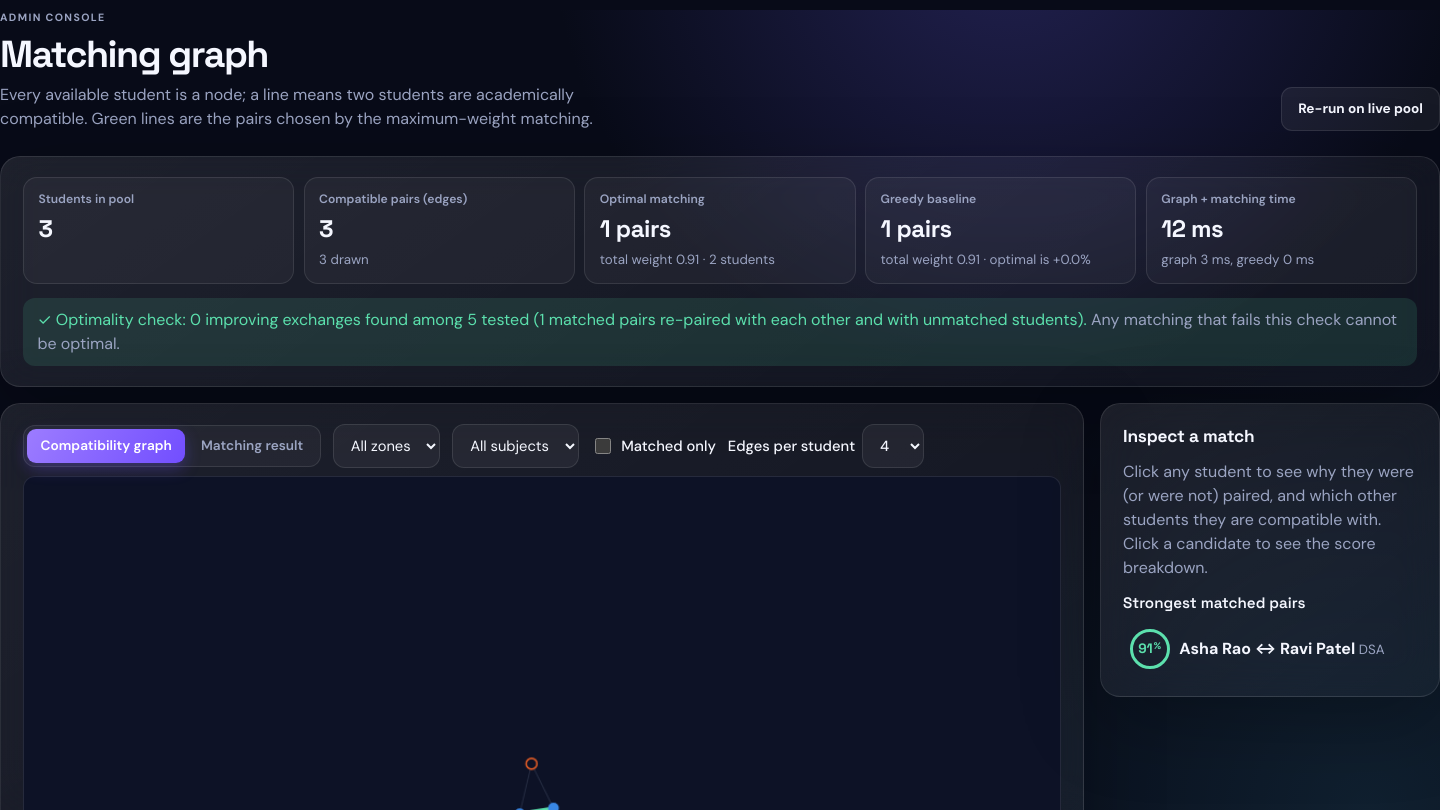
MatchGraphPage › lets the admin open a matched pair and see its score breakdown
Click the button "91 % Asha Rao ↔ Ravi Patel DSA" at (1270, 649), box [1123,623,1417,676]
(page scrolled)
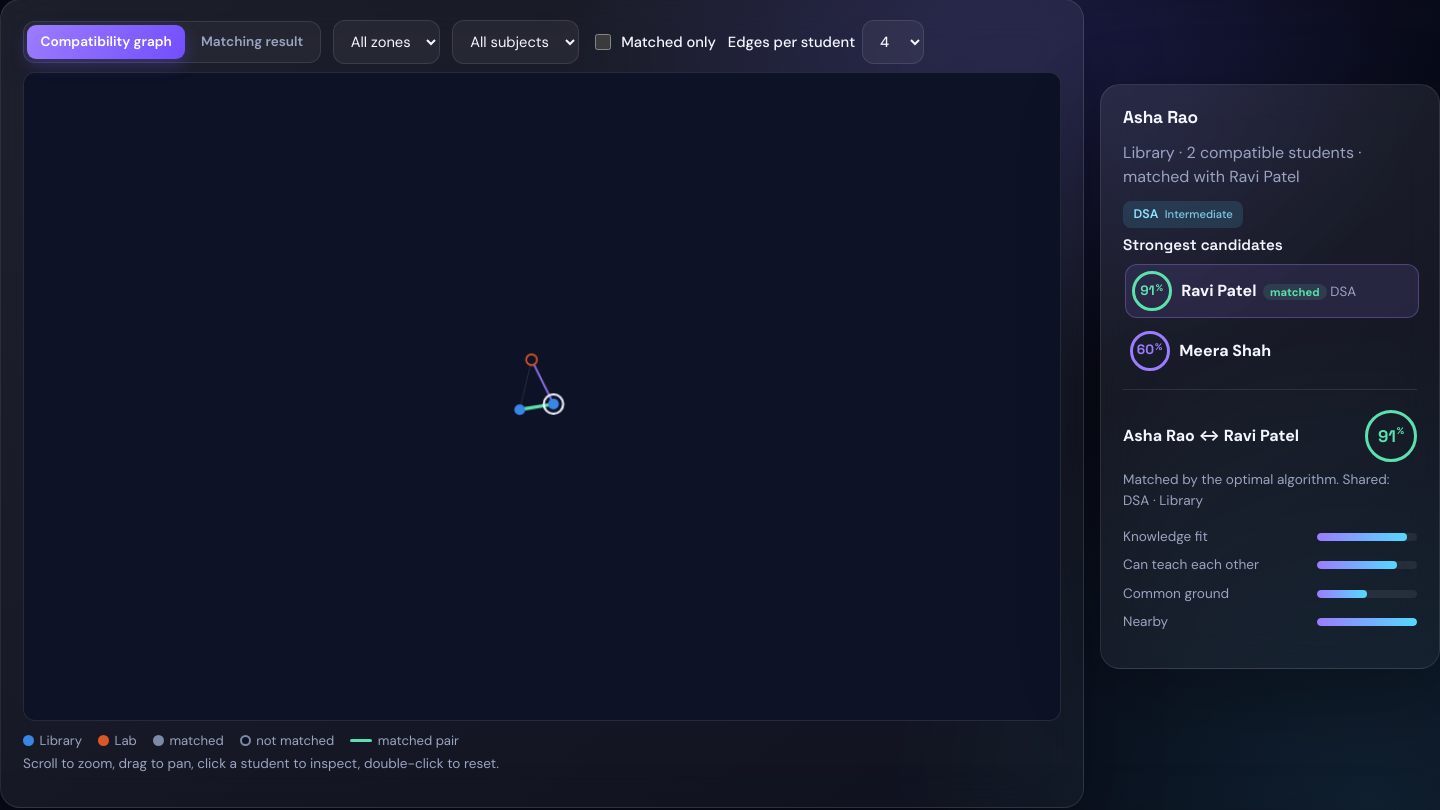
expect the heading "Asha Rao" is shown: met, box [1123,106,1198,128]
expect the text "Matched by the optimal algorithm. Shared: DSA · Library" is shown: met, box [1123,470,1417,511]
